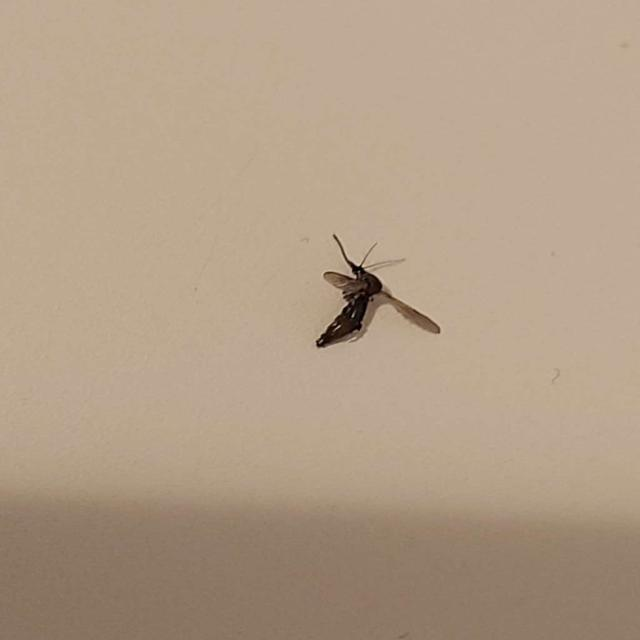albopictus: (311, 229, 442, 346)
